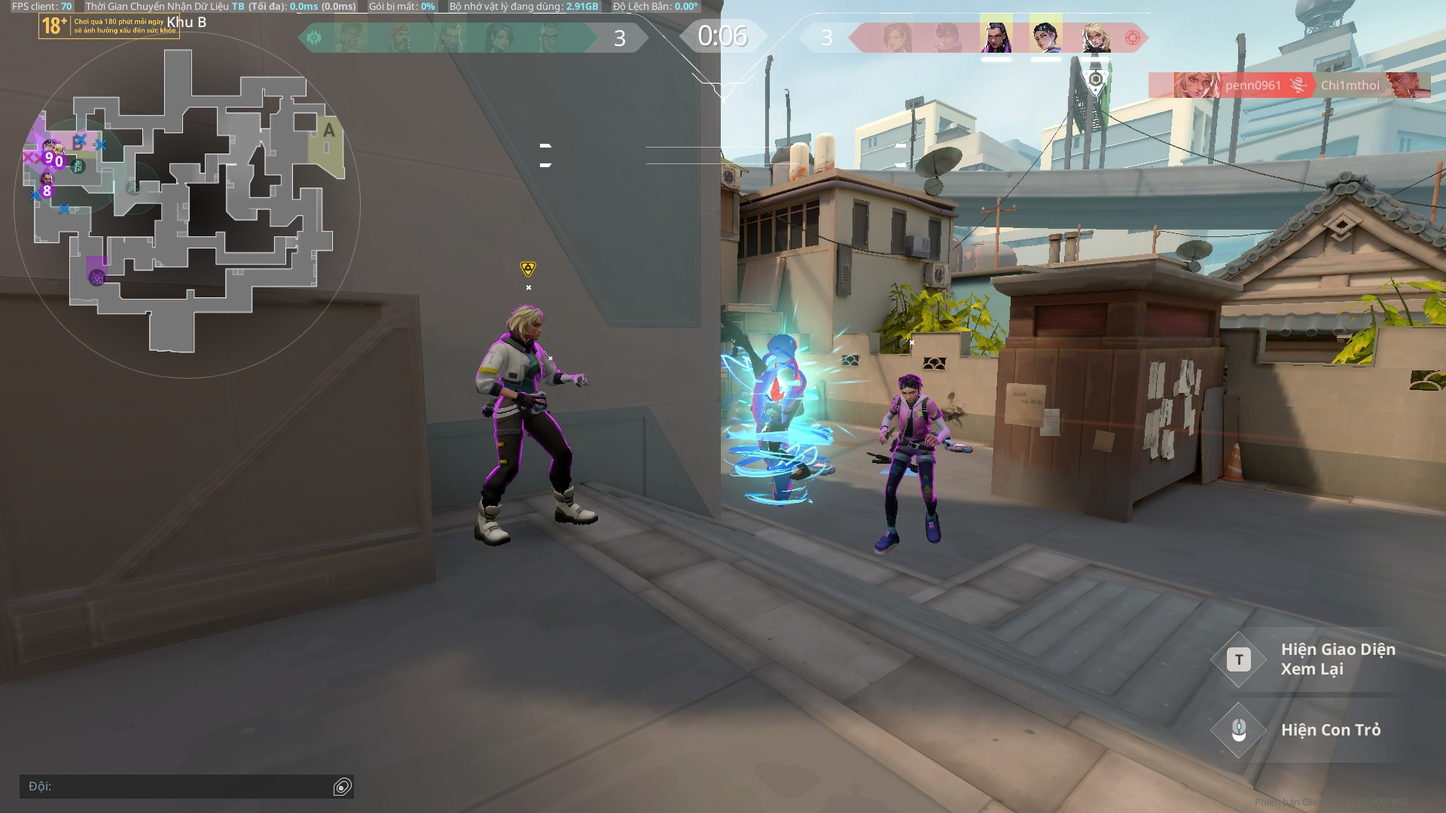body: (493, 336, 548, 407), (891, 393, 936, 446)
head: (510, 303, 545, 339), (896, 373, 923, 399)
